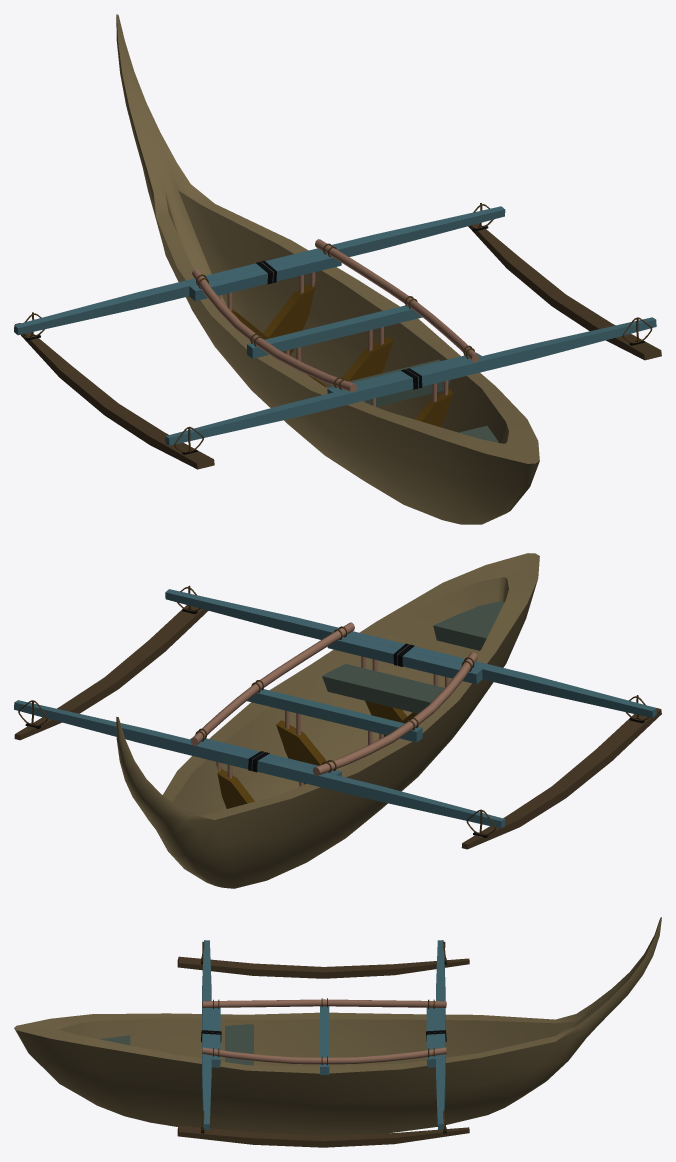
The model's file is 3D_Boat.fbx.
The picture shows the model from 3 angles, top to bottom: view 1: azimuth 30°, elevation 25°; view 2: azimuth 150°, elevation 25°; view 3: azimuth 270°, elevation 25°; orthographic projection. The views are drawn at different scales.
Parts seen in each view (by area): view 1: Boat1:polySurface3, Boat1:polySurface27, Boat1:polySurface29, Boat1:polySurface30, Boat1:polySurface36, Boat1:polySurface9, Boat1:polySurface7, Boat1:polySurface11, Boat1:polySurface4, Boat1:polySurface13, Boat1:polySurface12, Boat1:polySurface2 (+1 smaller); view 2: Boat1:polySurface3, Boat1:polySurface29, Boat1:polySurface27, Boat1:polySurface30, Boat1:polySurface36, Boat1:polySurface2, Boat1:polySurface9, Boat1:polySurface8, Boat1:polySurface1, Boat1:polySurface11, Boat1:polySurface4, Boat1:polySurface12 (+3 smaller); view 3: Boat1:polySurface3, Boat1:polySurface36, Boat1:polySurface30, Boat1:polySurface11, Boat1:polySurface4, Boat1:polySurface27, Boat1:polySurface29, Boat1:polySurface2, Boat1:polySurface9, Boat1:polySurface8, Boat1:polySurface7.
Part boxes in pixels (box(x1,y1,x2,y2)): Boat1:polySurface3: box(116, 14, 539, 524); Boat1:polySurface27: box(165, 317, 656, 445); Boat1:polySurface29: box(14, 206, 505, 335); Boat1:polySurface30: box(15, 323, 214, 469); Boat1:polySurface36: box(468, 223, 661, 360); Boat1:polySurface9: box(247, 305, 422, 358); Boat1:polySurface7: box(189, 253, 341, 301); Boat1:polySurface11: box(192, 269, 356, 392); Boat1:polySurface4: box(315, 239, 478, 362); Boat1:polySurface13: box(231, 284, 315, 355); Boat1:polySurface12: box(308, 337, 393, 386); Boat1:polySurface2: box(326, 359, 450, 406); Boat1:polySurface3: box(116, 553, 539, 888); Boat1:polySurface29: box(14, 700, 505, 828); Boat1:polySurface27: box(165, 589, 656, 717); Boat1:polySurface30: box(461, 708, 661, 849); Boat1:polySurface36: box(14, 605, 208, 740); Boat1:polySurface2: box(322, 664, 444, 713); Boat1:polySurface9: box(247, 689, 422, 742); Boat1:polySurface8: box(327, 636, 482, 684); Boat1:polySurface1: box(433, 601, 503, 650); Boat1:polySurface11: box(312, 652, 477, 775); Boat1:polySurface4: box(190, 622, 354, 745); Boat1:polySurface12: box(276, 720, 326, 784); Boat1:polySurface3: box(14, 917, 661, 1135); Boat1:polySurface36: box(177, 1125, 469, 1147); Boat1:polySurface30: box(177, 956, 469, 978); Boat1:polySurface11: box(202, 999, 446, 1007); Boat1:polySurface4: box(202, 1047, 446, 1064); Boat1:polySurface27: box(202, 940, 211, 1129); Boat1:polySurface29: box(436, 940, 445, 1129); Boat1:polySurface2: box(225, 1024, 253, 1065); Boat1:polySurface9: box(320, 1006, 329, 1074); Boat1:polySurface8: box(211, 1007, 220, 1067); Boat1:polySurface7: box(426, 1007, 435, 1067).
Size of the model in its own units: 3.54 by 1.96 by 5.27.
